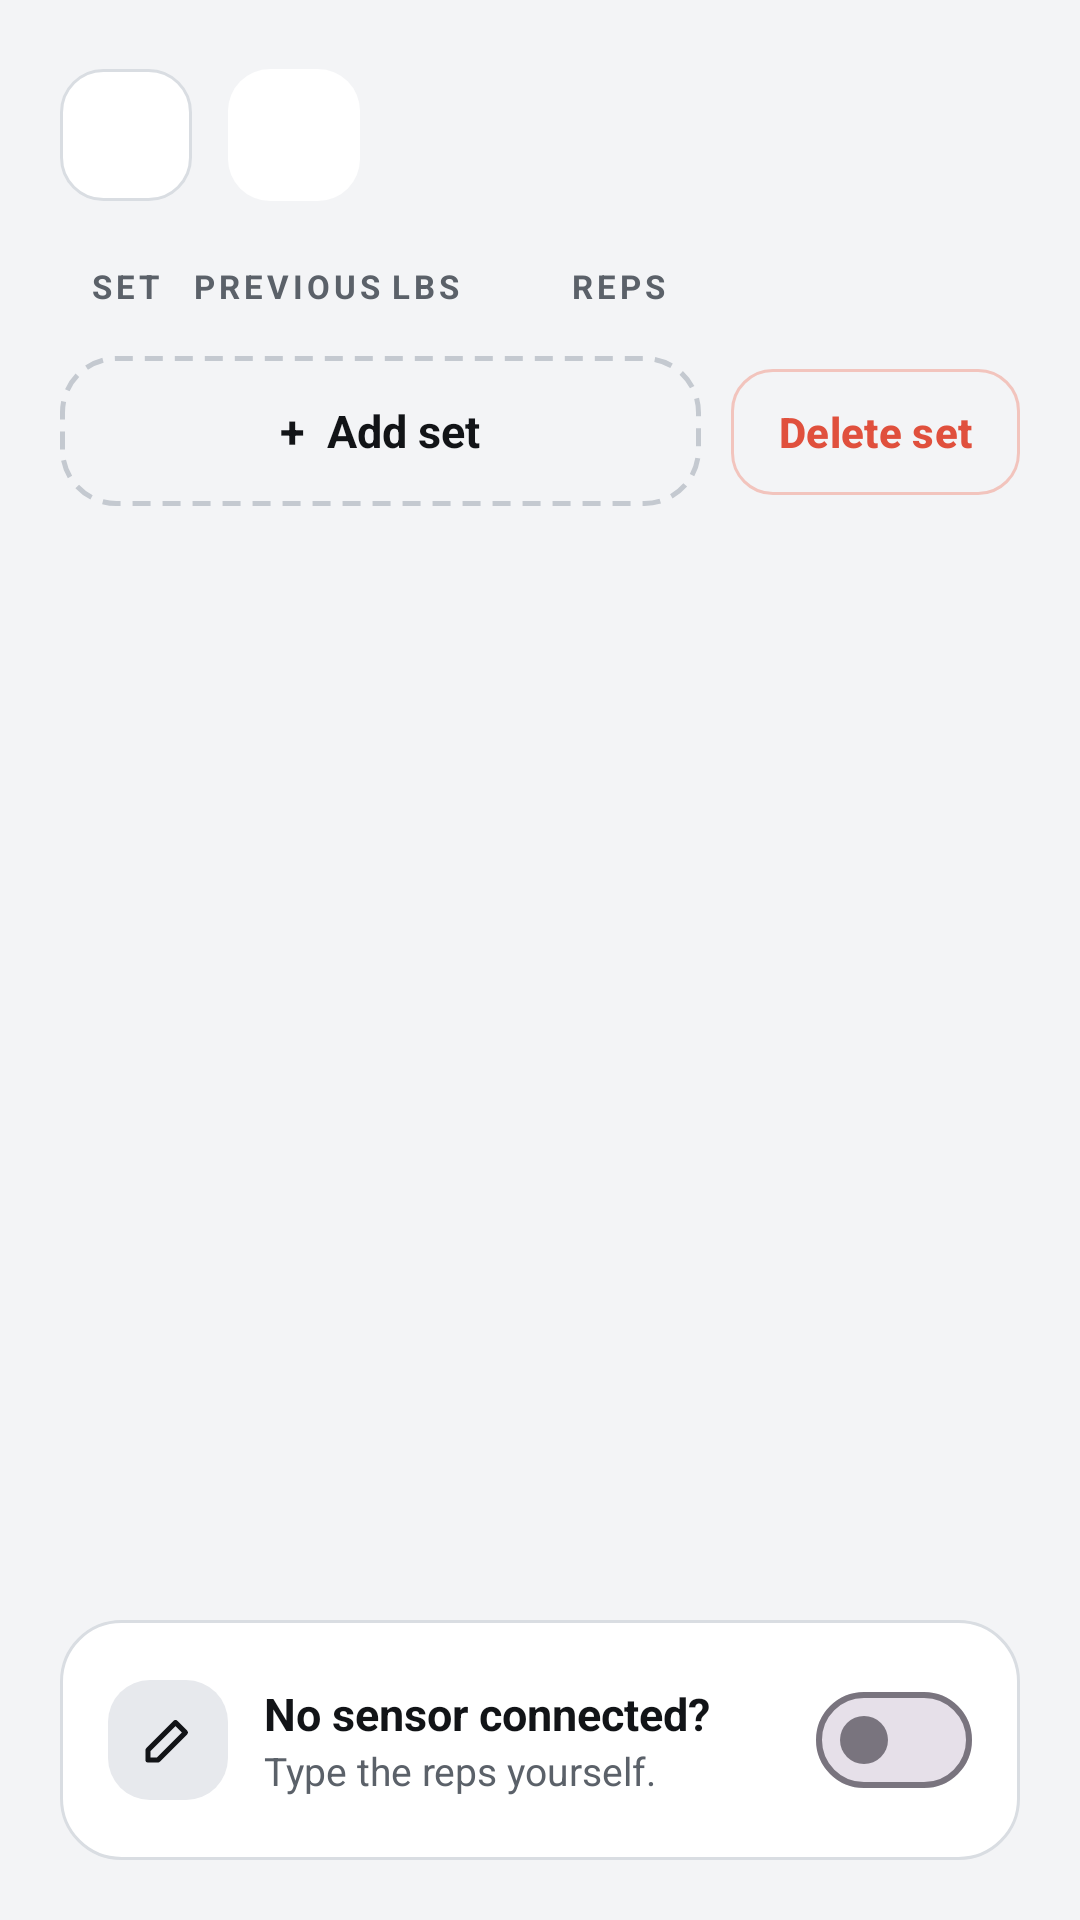

Screen size 1080 x 1920. Icon name, then its box in pixels as BBox(x1, y1, x2, y2):
edit: BBox(145, 1720, 188, 1763)
